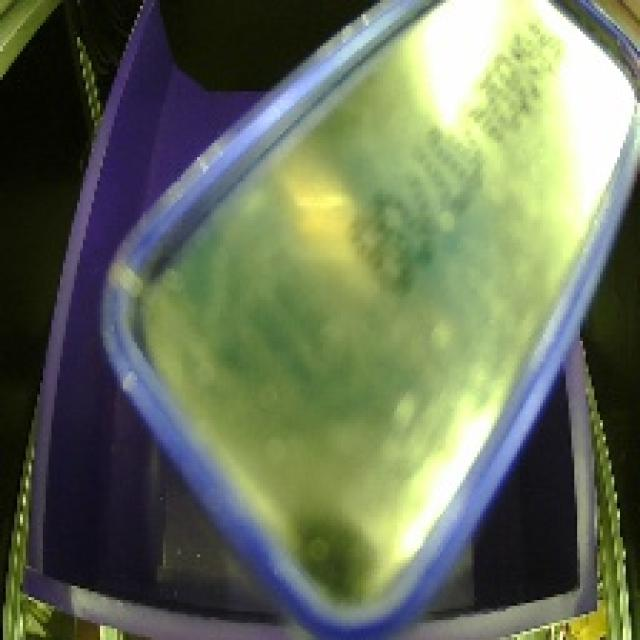metal: (75, 0, 640, 640)
